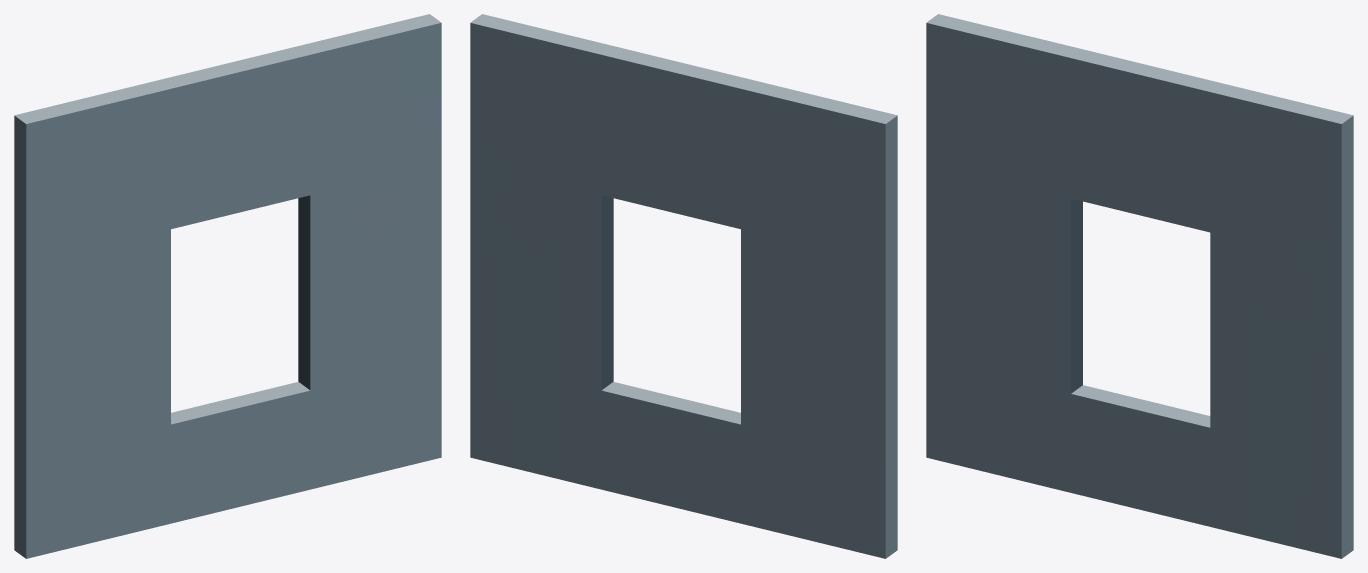
The model's file is Window.fbx.
3 views of the same model, side by side, from view 1: azimuth 30°, elevation 25°; view 2: azimuth 150°, elevation 25°; view 3: azimuth 330°, elevation 25° (orthographic).
Parts seen in each view (by area): view 1: window; view 2: window; view 3: window.
Part boxes in pixels (x1=…): window: x1=14, y1=14, x2=441, y2=558; window: x1=470, y1=14, x2=897, y2=558; window: x1=926, y1=14, x2=1353, y2=558.
Bounding box in the file's own units: 400 × 400 × 20.
